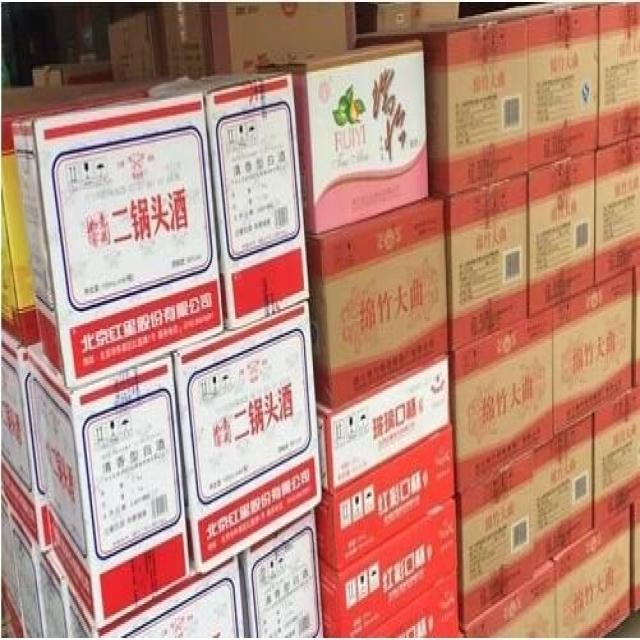box: (11, 76, 224, 389), (1, 76, 185, 349), (28, 345, 190, 626), (172, 299, 322, 574), (257, 38, 429, 233), (356, 8, 529, 197), (305, 197, 448, 411), (198, 74, 310, 329), (316, 425, 456, 572), (319, 496, 457, 640), (448, 307, 554, 492), (317, 355, 450, 494), (430, 175, 528, 351), (157, 2, 356, 78), (510, 2, 599, 169), (69, 556, 245, 640), (456, 451, 535, 626), (552, 267, 634, 435), (238, 508, 324, 640), (528, 152, 595, 319), (1, 329, 49, 554), (570, 0, 640, 150), (554, 506, 630, 640), (533, 413, 593, 570), (460, 560, 557, 640), (594, 136, 640, 287), (593, 385, 640, 530), (367, 570, 460, 638), (10, 508, 49, 638), (0, 490, 27, 640), (109, 8, 164, 80), (355, 2, 459, 32), (40, 550, 73, 638), (32, 60, 112, 86), (630, 498, 640, 614)
